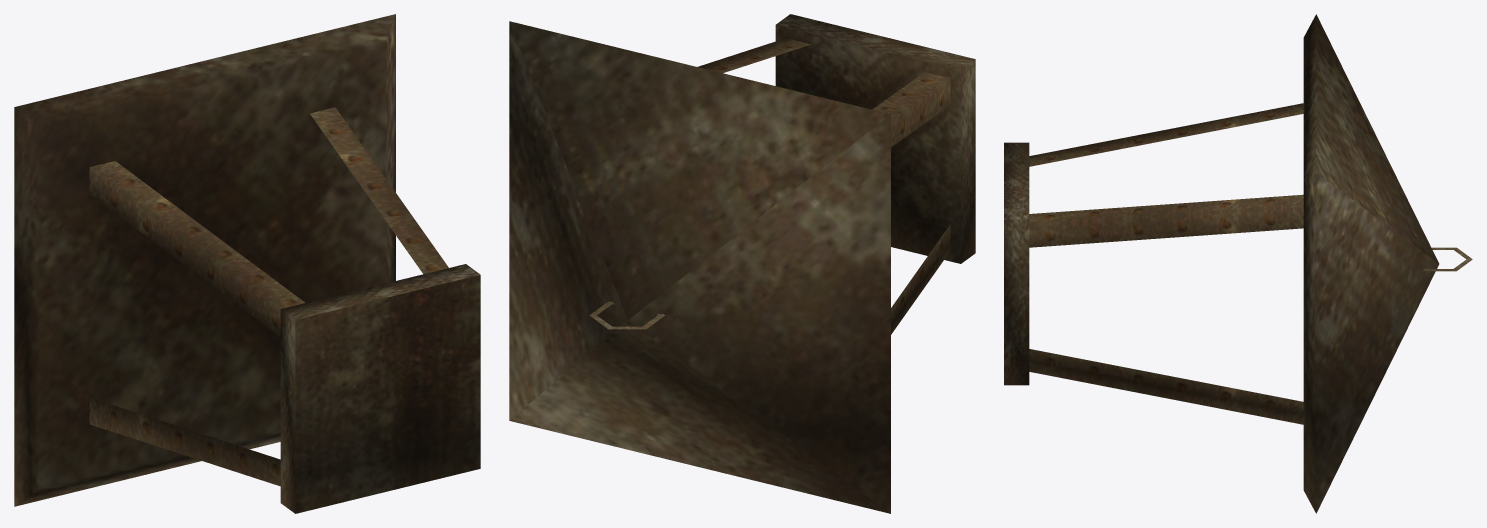
File: lantern_LOD50.glb
The picture shows the model from 3 angles, left to right: view 1: azimuth 30°, elevation 25°; view 2: azimuth 150°, elevation 25°; view 3: azimuth 270°, elevation 25°; orthographic projection. The views are drawn at different scales.
Visible parts, largest first — view 1: l_lampstruct0.jpg__; view 2: l_lampstruct0.jpg__; view 3: l_lampstruct0.jpg__.
Part boxes in pixels (box(x1,y1,x2,y2)): l_lampstruct0.jpg__: box(14, 14, 480, 513); l_lampstruct0.jpg__: box(509, 14, 975, 513); l_lampstruct0.jpg__: box(1004, 14, 1472, 513).
Bounding box in the file's own units: 1.04 × 1.04 × 1.29.
Materials: 1 (1 with a texture image).
